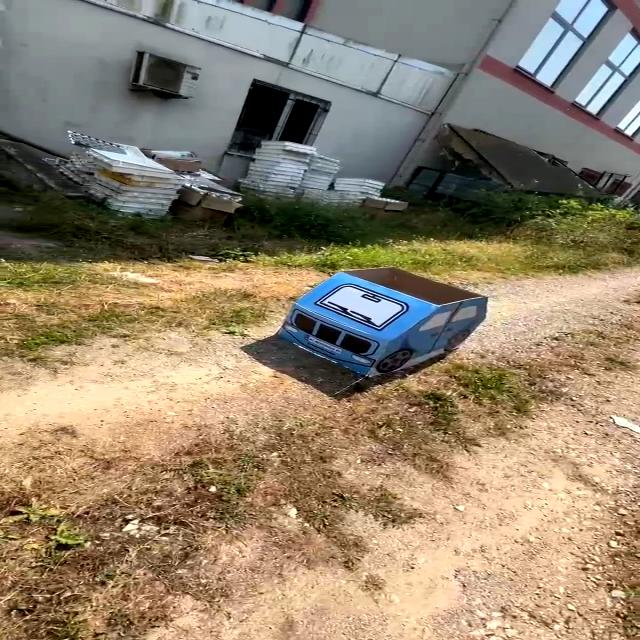blue_car: (253, 256, 500, 386)
